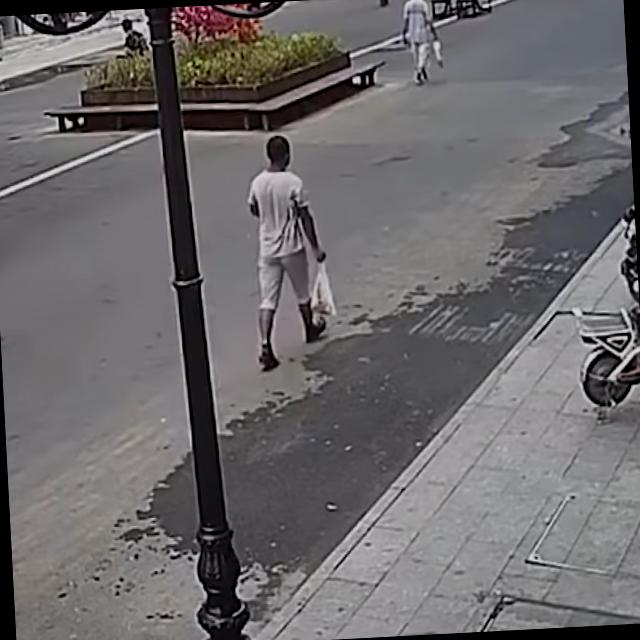person: (240, 130, 334, 367), (397, 0, 443, 86)
